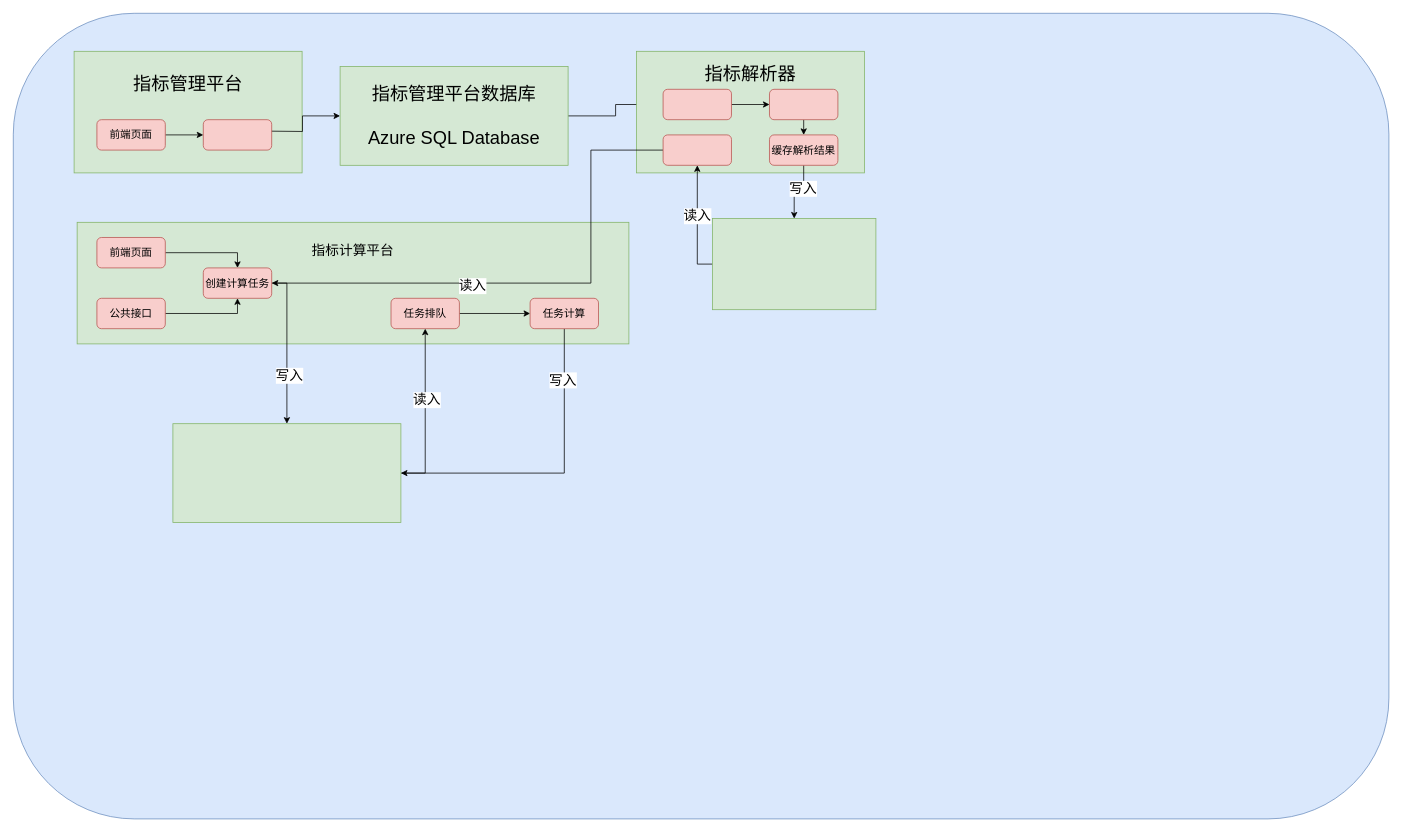
Image size: 1402x832. Some labels were removed from this diagram. Here are the shapes that lost their labels. From the top down, the centre of each, then its label:
At point (697, 104): "读入指标".
At point (803, 104): "指标解析".
At point (237, 134): "指标管理后端".
At point (697, 149): "解析结果接口".
At point (794, 264): "缓存组件 Azure Storage Blob".
At point (286, 472): "指标计算平台数据库 Azure SQL Database".
